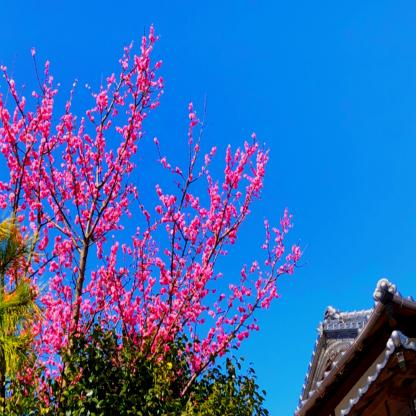Momo: (0, 19, 311, 416)
